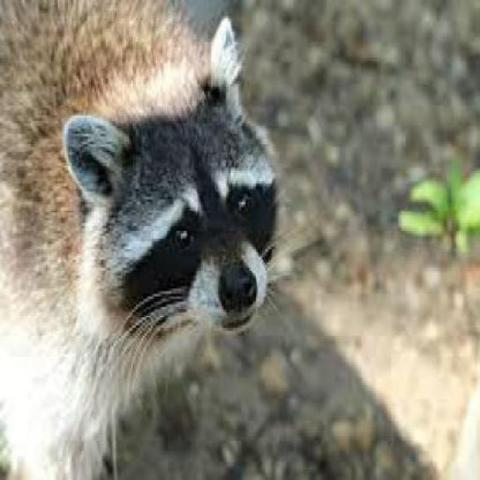small_animal: (1, 2, 286, 476)
